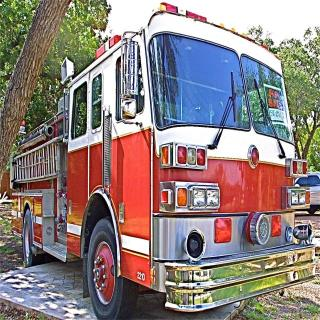Fire_truck: (9, 3, 317, 320)
